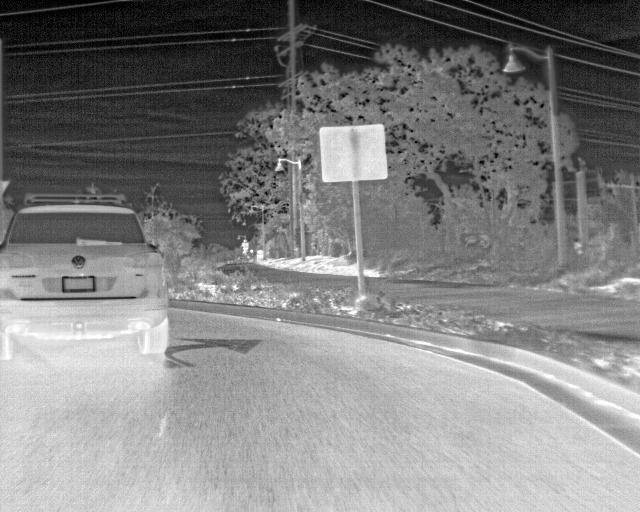car: (0, 190, 172, 361)
